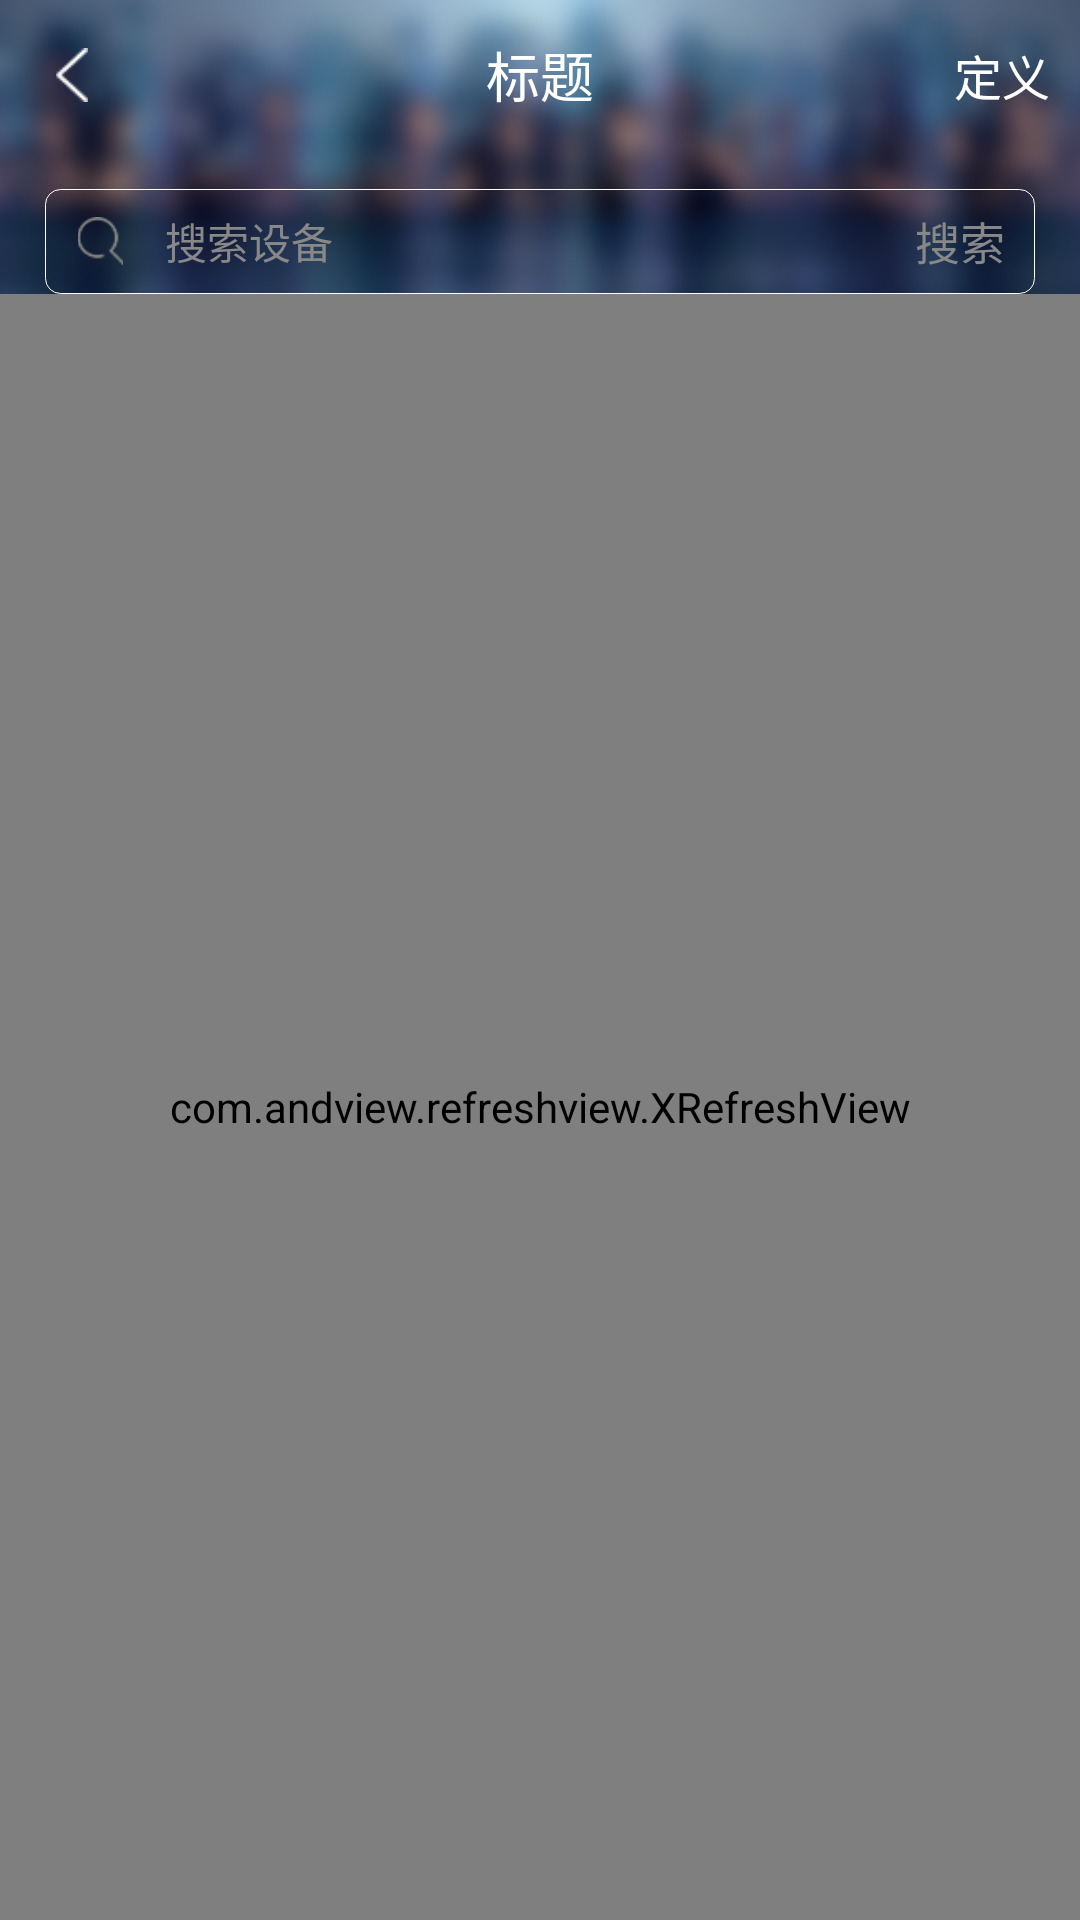

Icons on this 1080×1920 Android screen, each with the point to tap as [x,y]:
search: [100,241]
